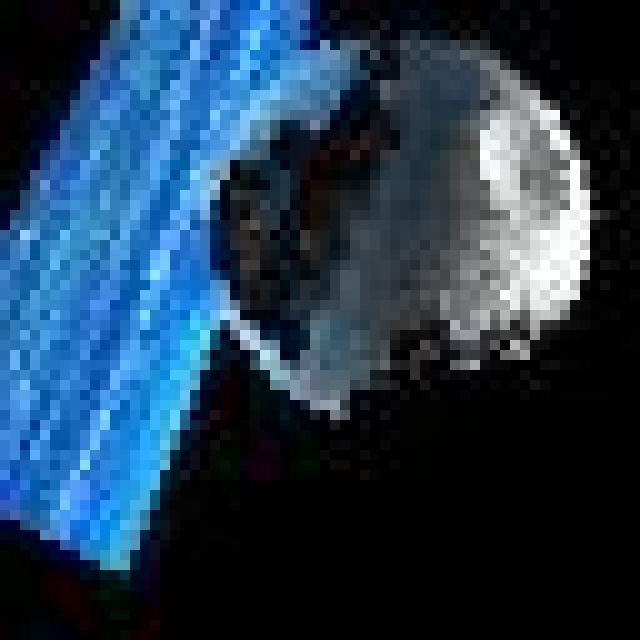Death Star: (219, 30, 598, 423)
